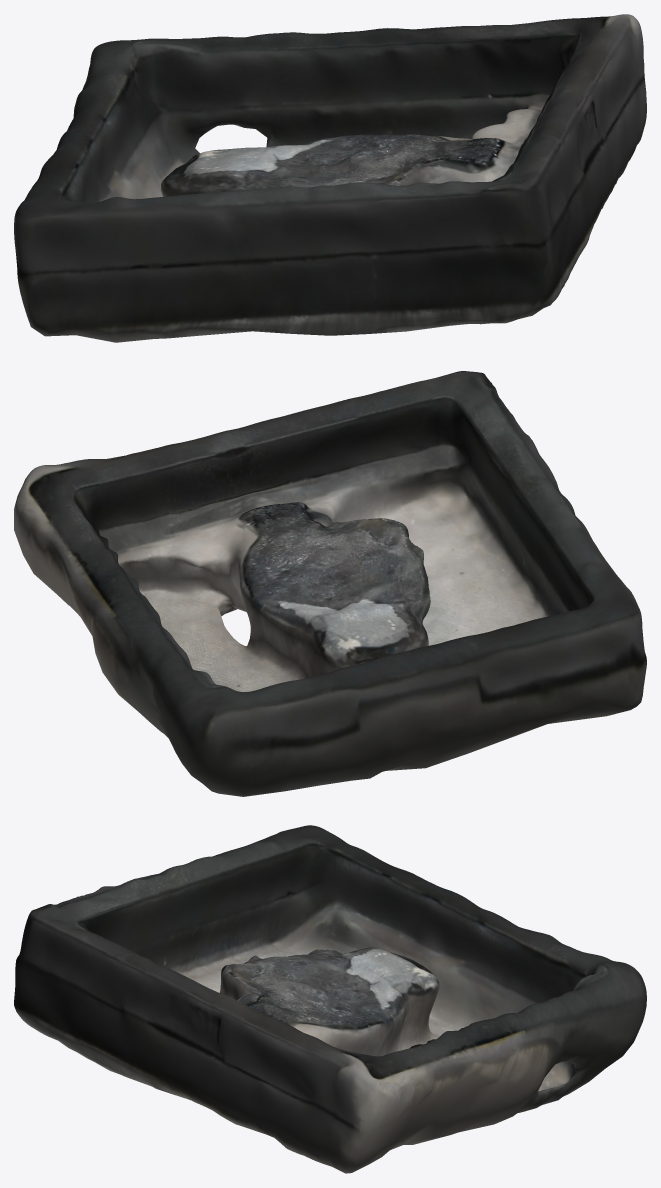
3 renders of one model, top to bottom at view 1: azimuth 30°, elevation 25°; view 2: azimuth 150°, elevation 25°; view 3: azimuth 270°, elevation 25°, orthographic. The views are drawn at different scales.
Size of the model in its own units: 0.9059 by 0.3077 by 0.8923.
1 material, 1 textured.
